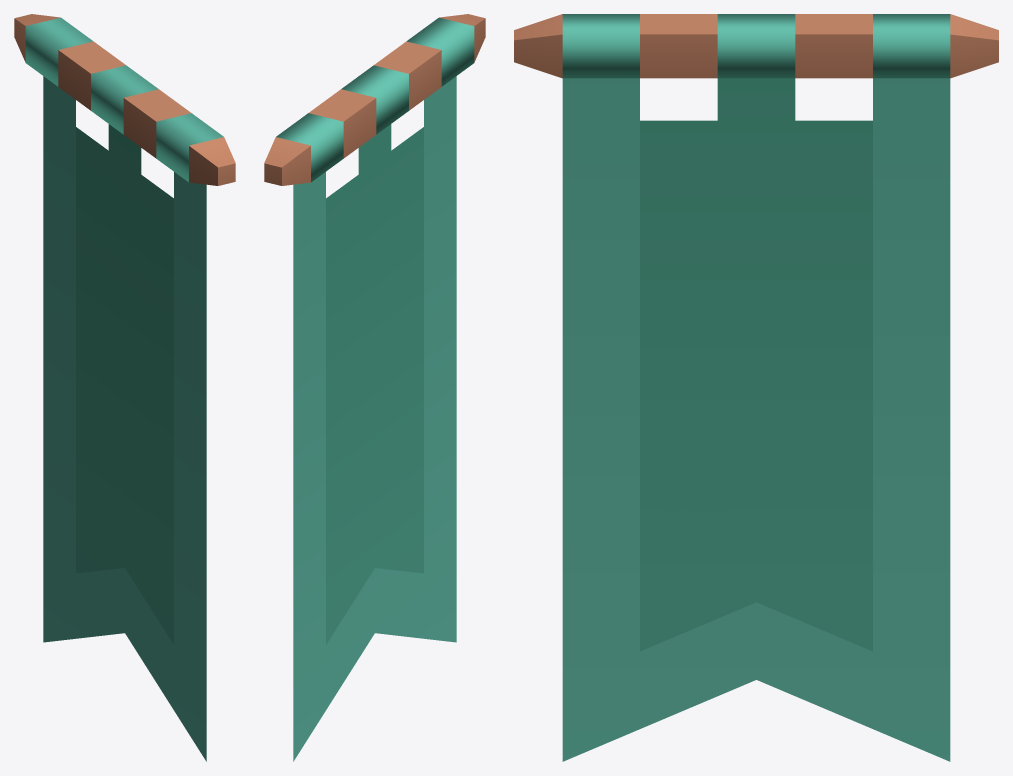
The model's file is banner-green.glb.
3 views of the same model, side by side, from view 1: azimuth 30°, elevation 25°; view 2: azimuth 150°, elevation 25°; view 3: azimuth 270°, elevation 25° (orthographic). The views are drawn at different scales.
Parts seen in each view (by area): view 1: banner-green; view 2: banner-green; view 3: banner-green.
Part boxes in pixels (<box>): banner-green: <box>14,14,235,761</box>; banner-green: <box>264,14,485,761</box>; banner-green: <box>514,14,998,761</box>.
Bounding box in the file's own units: 0.05 × 0.8394 × 0.5.
1 material, 1 textured.
